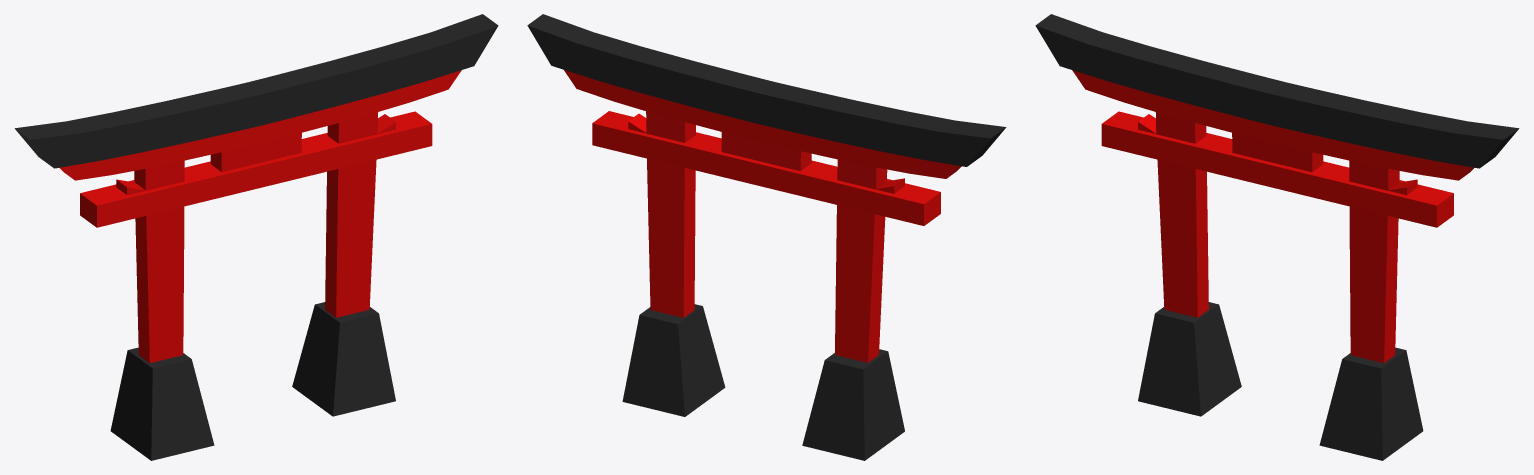
Rendered from tori.glb.
3 renders of one model, left to right at view 1: azimuth 30°, elevation 25°; view 2: azimuth 150°, elevation 25°; view 3: azimuth 330°, elevation 25°, orthographic.
Parts seen in each view (by area): view 1: tori; view 2: tori; view 3: tori.
Boxes of the visible parts, box(x1,y1,x2,y2) form: tori: box(14, 14, 498, 460); tori: box(527, 14, 1006, 460); tori: box(1035, 14, 1519, 460).
Size of the model in its own units: 4.76 by 3.32 by 0.7179.
